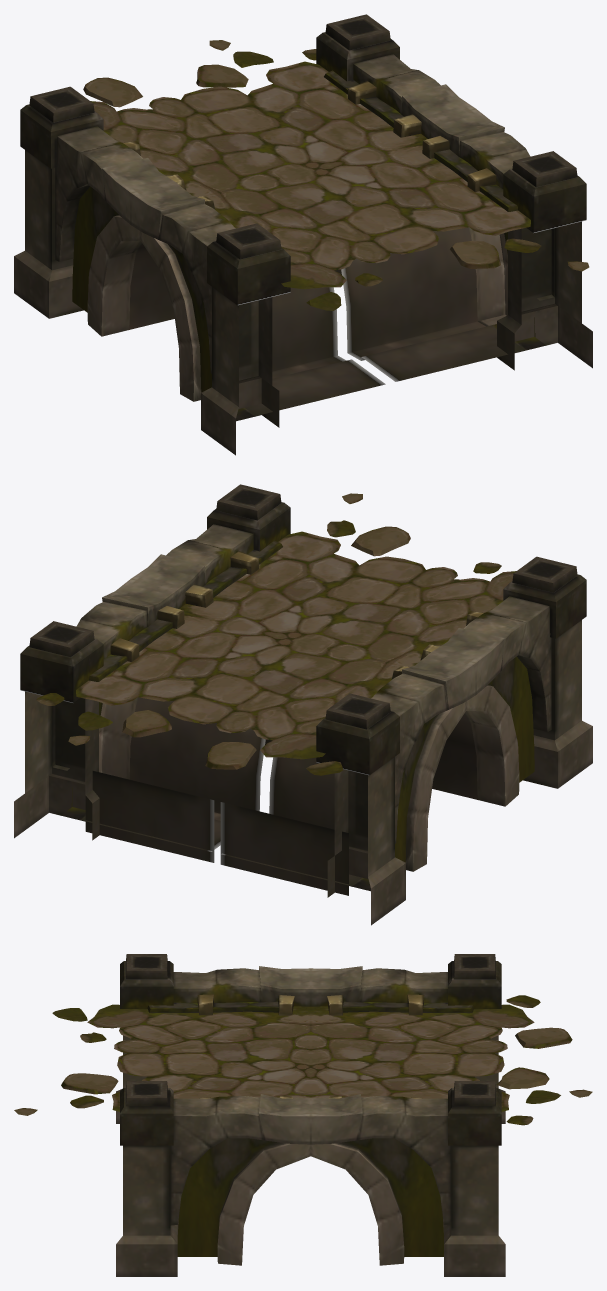
The model's file is mesh_qingming_bridge.FBX.
3 views of the same model, one above another, from view 1: azimuth 30°, elevation 25°; view 2: azimuth 150°, elevation 25°; view 3: azimuth 270°, elevation 25° (orthographic). The views are drawn at different scales.
Visible parts, largest first — view 1: mesh_qingming_bridge; view 2: mesh_qingming_bridge; view 3: mesh_qingming_bridge.
Boxes of the visible parts, x1,y1,x2,y2 form: mesh_qingming_bridge: [14, 14, 592, 455]; mesh_qingming_bridge: [14, 484, 592, 925]; mesh_qingming_bridge: [14, 954, 592, 1276].
Bounding box in the file's own units: 9.64 × 5.13 × 15.43.
1 material, 1 textured.
